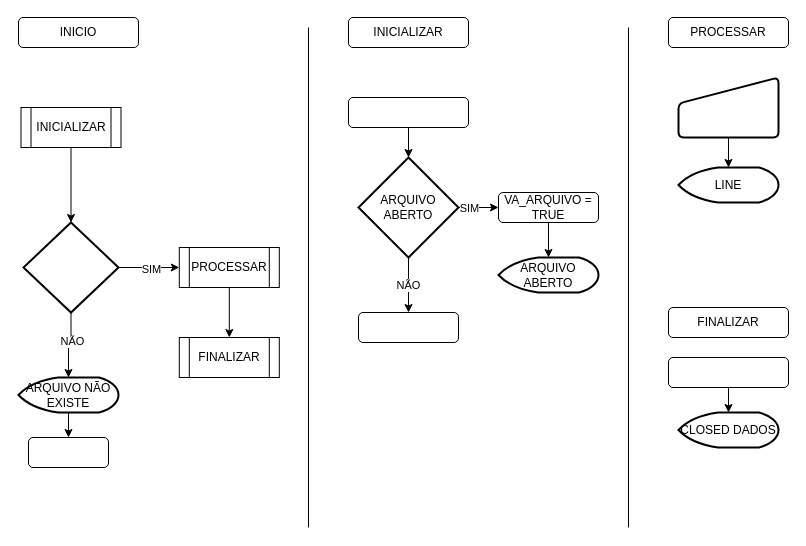
This 806x546 diagram has some shape labels left out. The shapes that lost their labels are listed below. From the top down, each one's box as (x1, y1, x2, y2) in pixels, then its label:
(348, 96, 468, 128): OPEN DADOS
(677, 76, 779, 138): INPUT/ READ LINE
(22, 221, 119, 313): VAR_ARQUIVO_EXISTE
(358, 312, 458, 342): VA_ARQUIVO = FALSE
(668, 356, 788, 388): CLOSE DADOS
(28, 436, 108, 468): FIM
